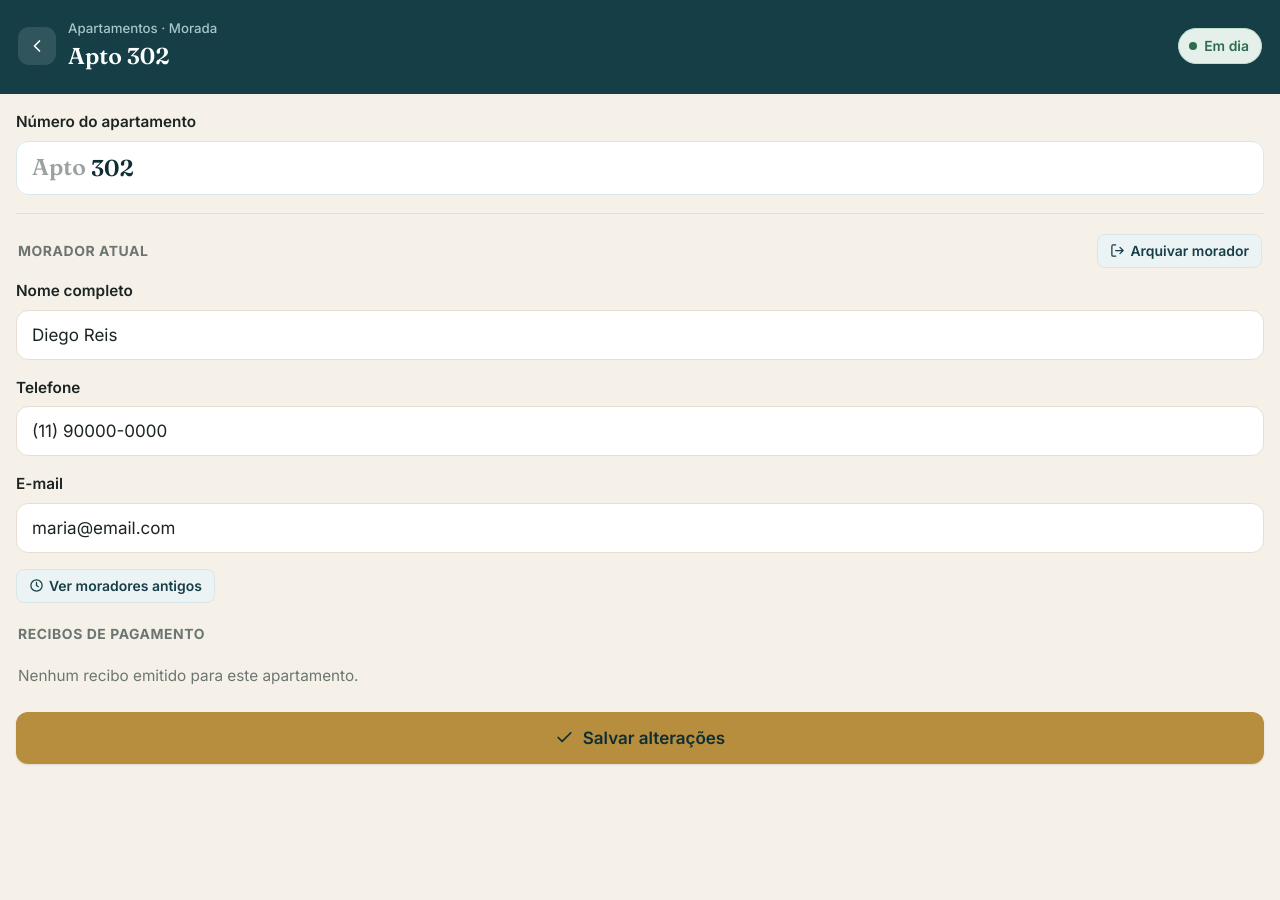
Test: ResidentEditScreen › shows the apartment past occupants under "moradores antigos"
The image size is (1280, 900).
Expected: the field showing "Diego Reis" is shown, 16,310 -> 1264,360
Step 1. Click the button "Ver moradores antigos" → (115, 586), box 16,569 -> 215,603
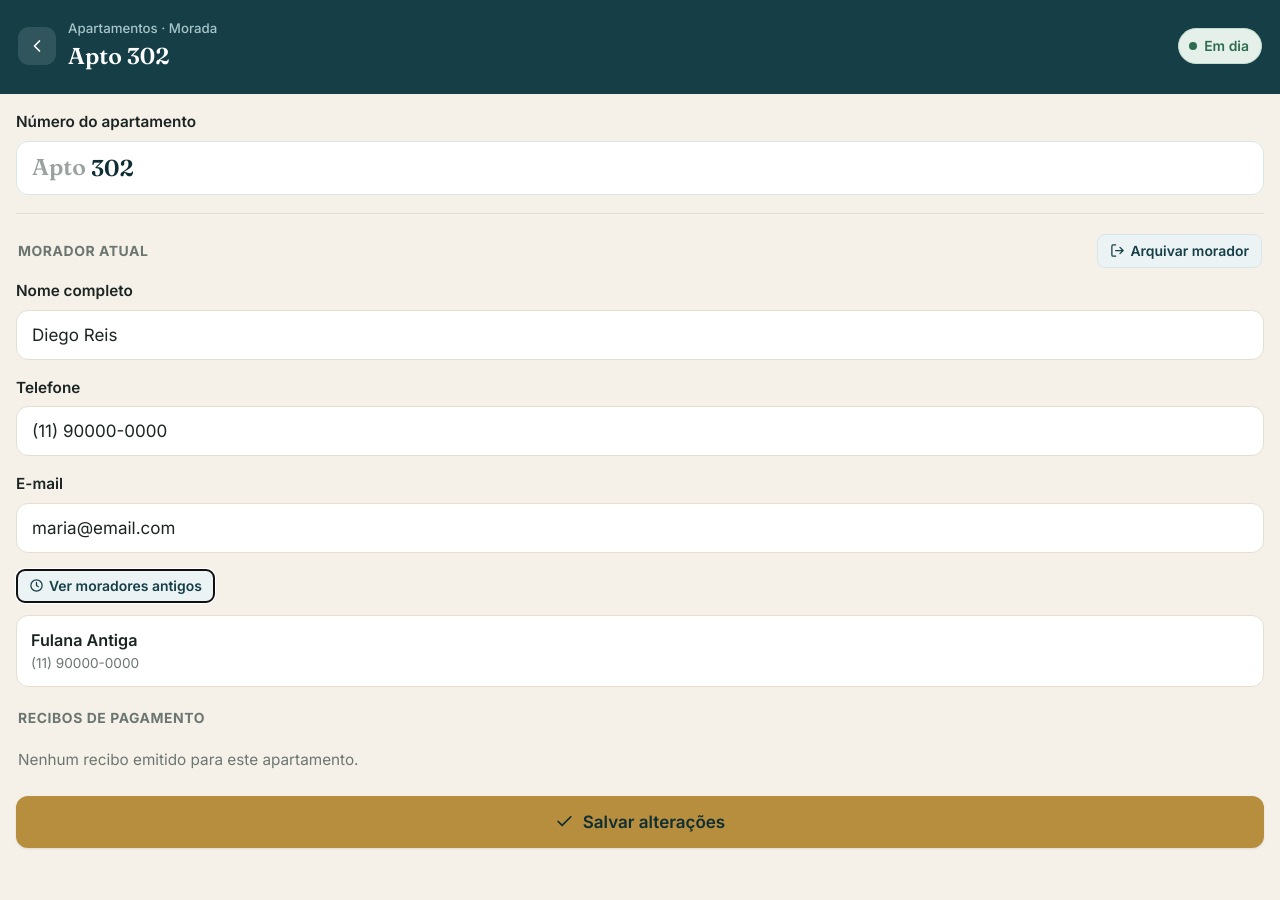
Result: the text "Fulana Antiga" is shown at 31,630 -> 137,650
